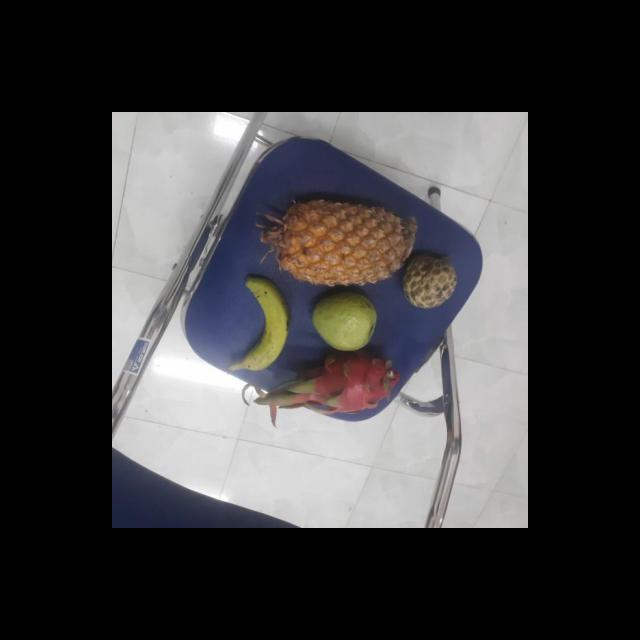Sakya fruit: (398, 254, 457, 309)
banana: (235, 280, 291, 372)
guava: (310, 292, 380, 352)
pineapple: (271, 200, 414, 286)
pitaya: (292, 348, 393, 416)
